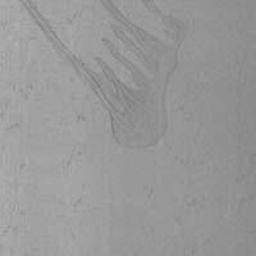Water spot: (18, 0, 192, 146)
